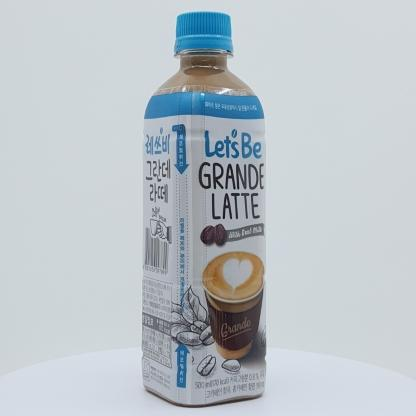--------500ML: (141, 11, 267, 408)
